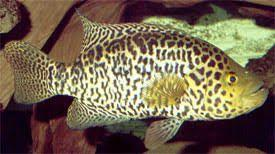Jaguar Gapote: (11, 20, 264, 140), (142, 26, 267, 148)
